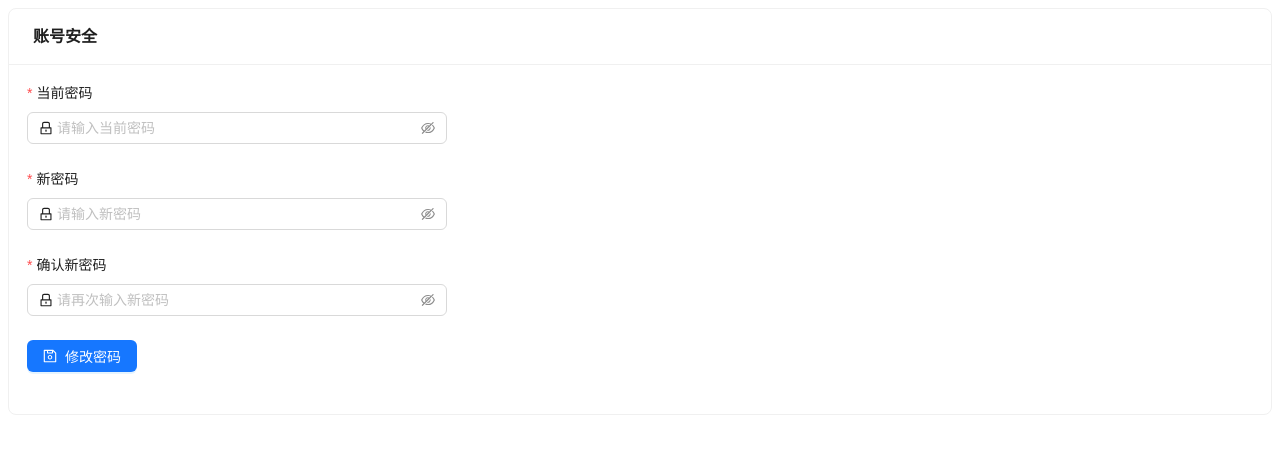
Test: ChangePasswordPanel › submits successfully with valid data
The image size is (1280, 466).
Type "oldPass1" into the password field with placeholder "请输入当前密码".
click(237, 128); type("oldPass1")  # box 57,117 -> 417,139
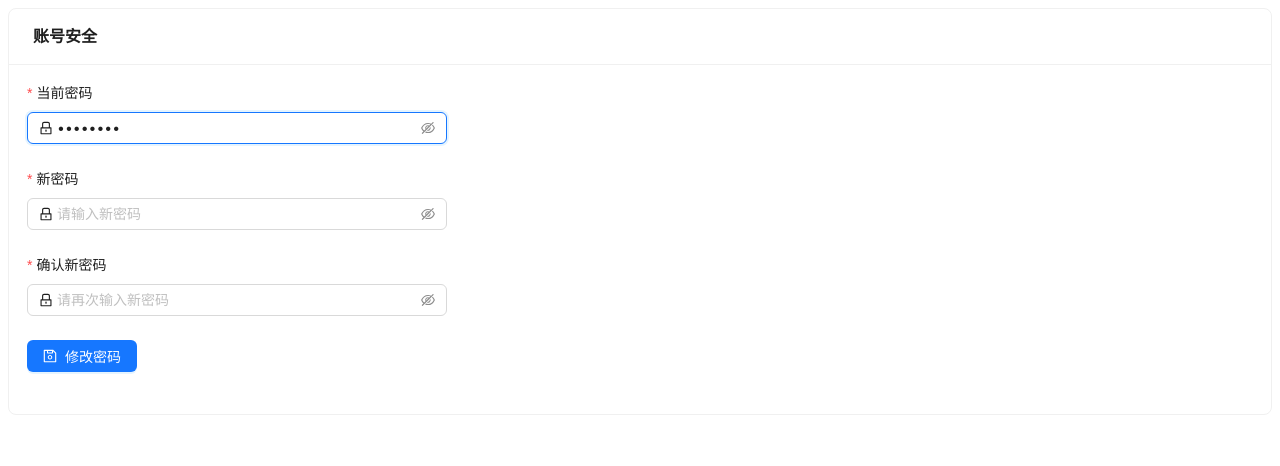
Type "newPass123" into the password field with placeholder "请输入新密码".
click(237, 214); type("newPass123")  # box 57,203 -> 417,225
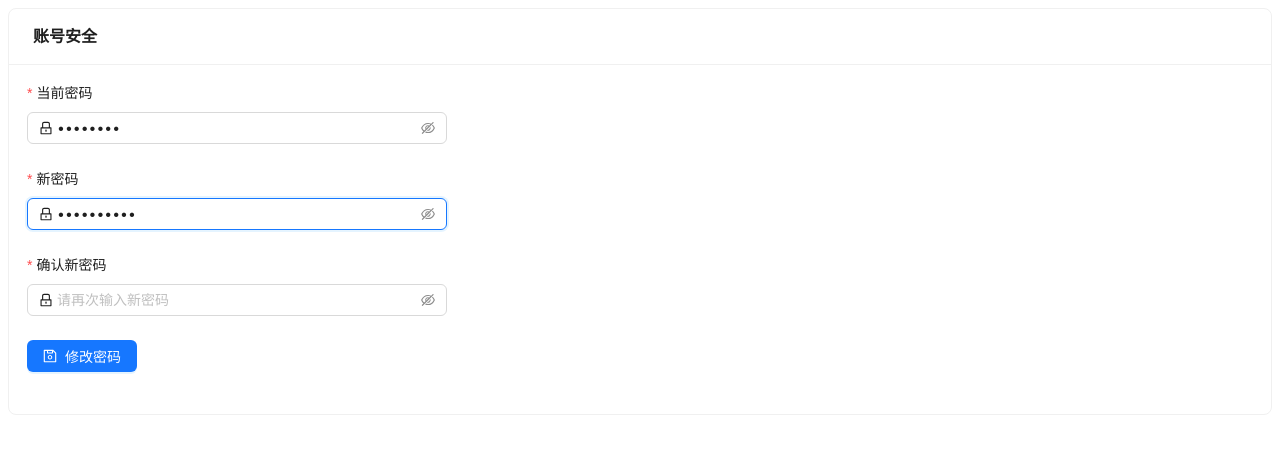
Type "newPass123" into the password field with placeholder "请再次输入新密码".
click(237, 300); type("newPass123")  # box 57,289 -> 417,311
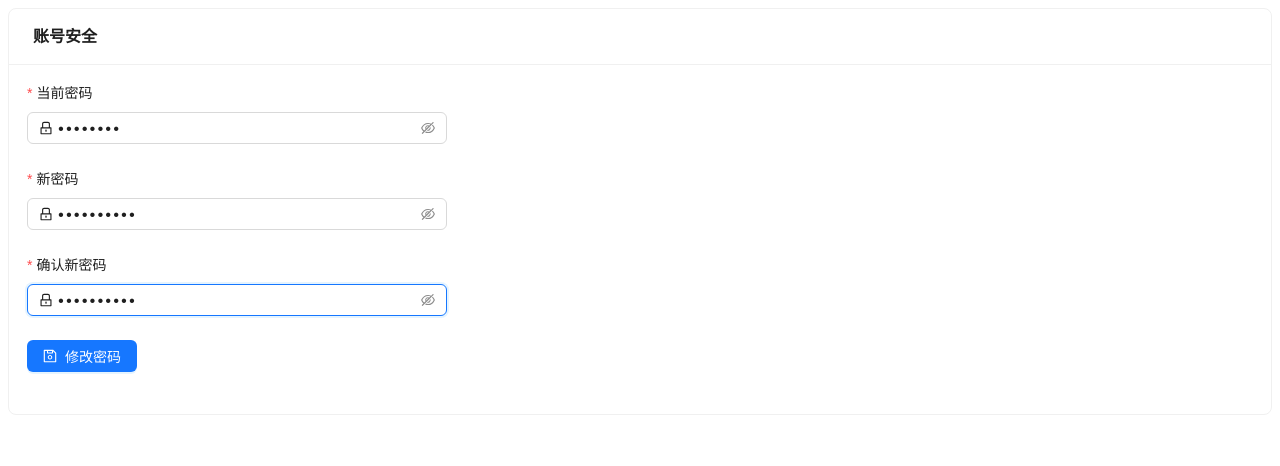
Click the button "修改密码".
click(82, 356)  # box 27,340 -> 137,372
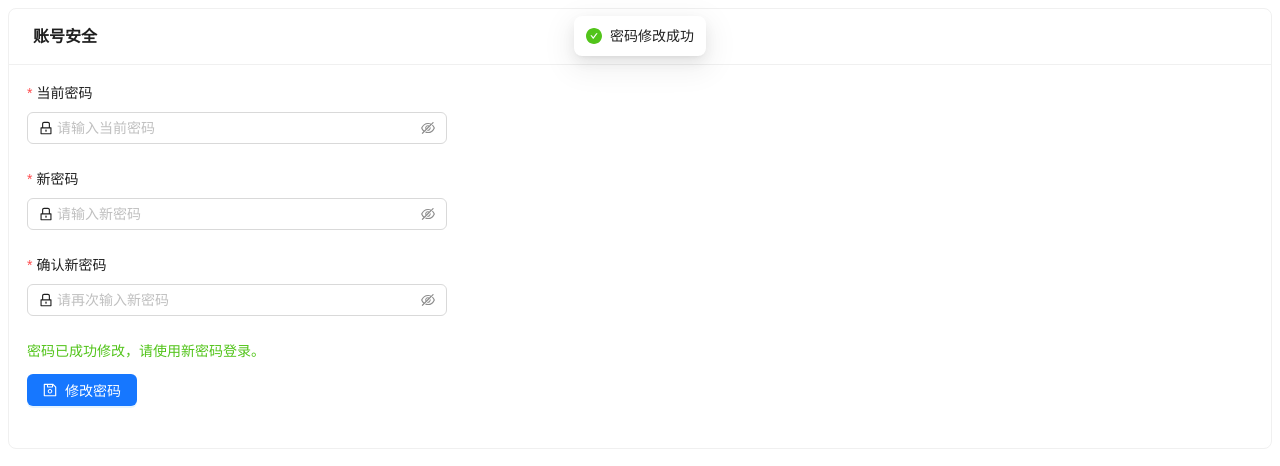
Now the text "密码已成功修改，请使用新密码登录。" is shown, box 27,342 -> 265,359
